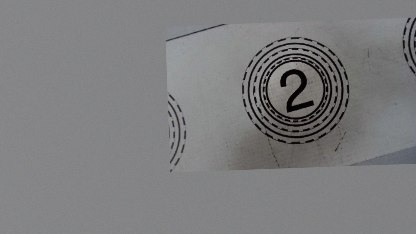2r: (237, 34, 352, 146)
